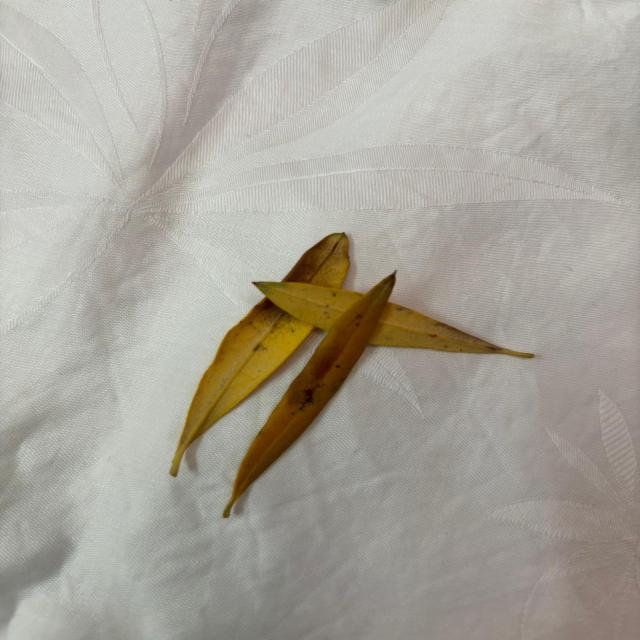Peacock Eye: (170, 233, 533, 518)
